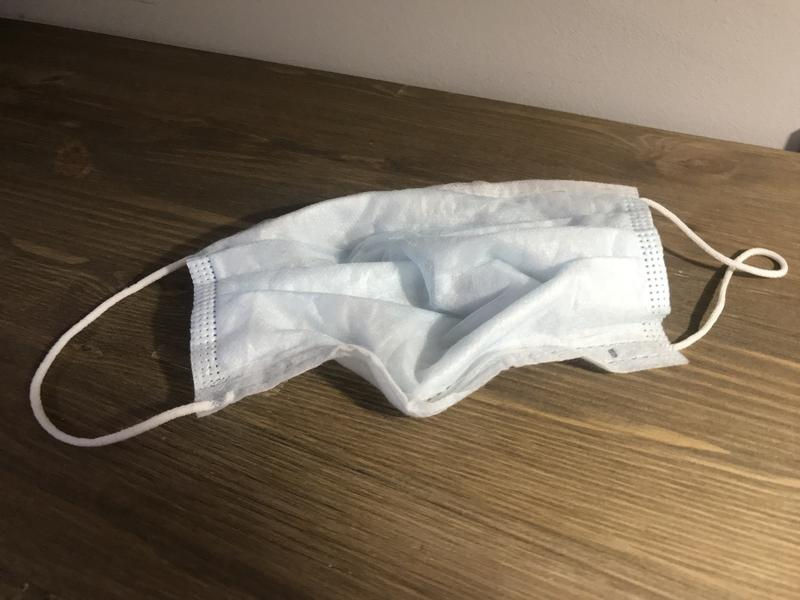medical_mask: (30, 179, 788, 448)
